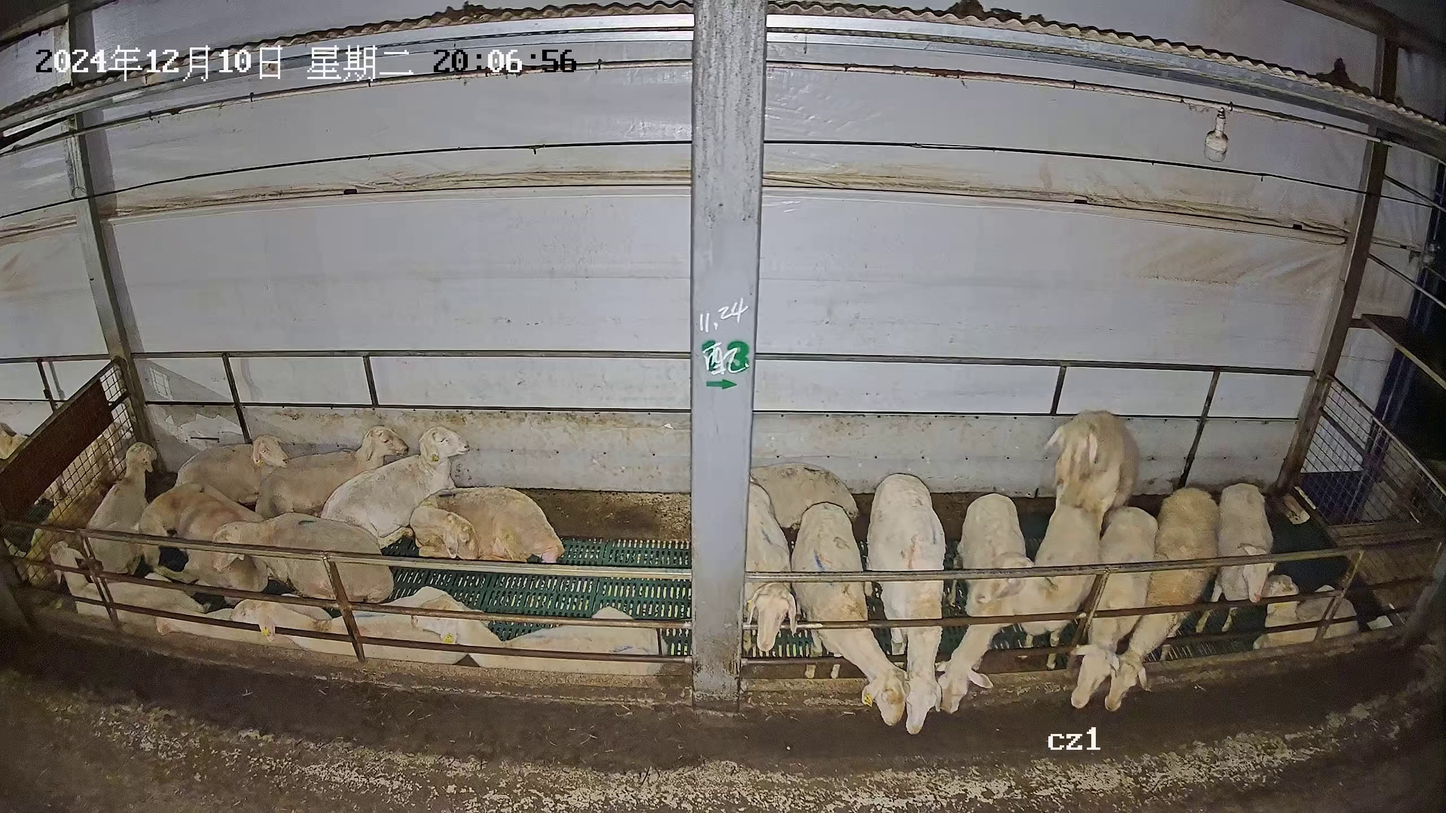Smounting: (969, 407, 1142, 671)
mounted: (973, 504, 1107, 668)
